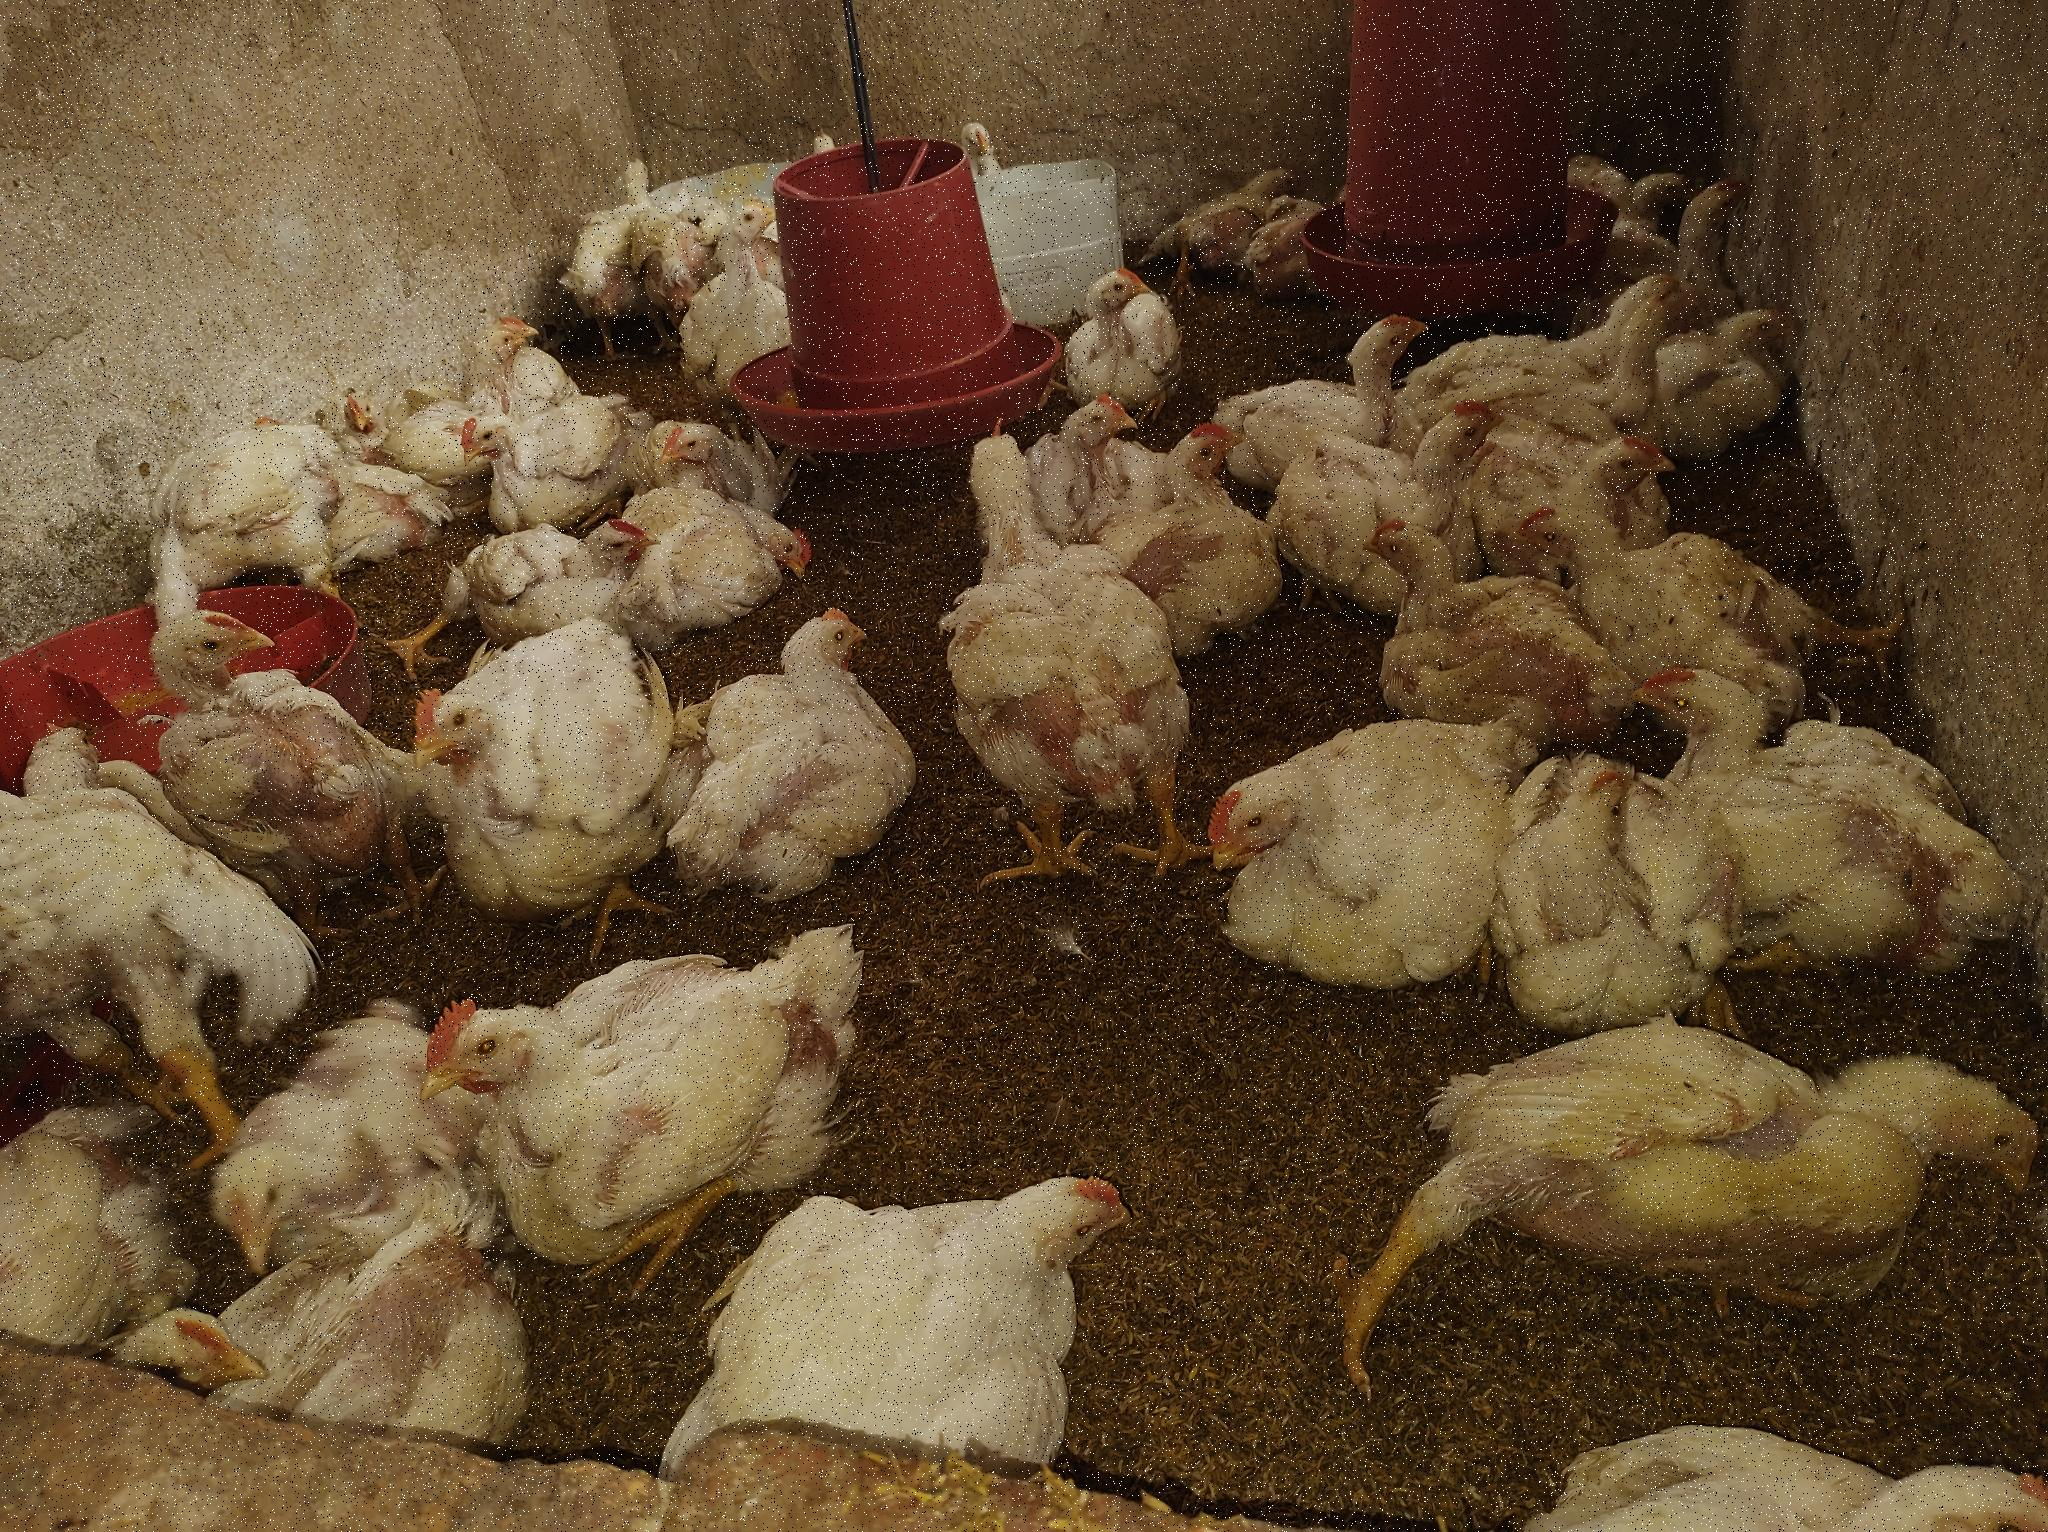Pollos: (1417, 1015, 2048, 1331), (405, 929, 880, 1278), (1626, 653, 2021, 991), (931, 431, 1189, 925), (753, 1172, 1142, 1448), (1195, 697, 1552, 998), (135, 602, 430, 914), (1522, 492, 1897, 737), (394, 632, 664, 932), (655, 613, 917, 903), (2, 713, 185, 1089), (1496, 755, 1738, 1025), (203, 999, 439, 1266), (1532, 1416, 2048, 1532), (129, 1300, 524, 1445), (2, 1098, 204, 1374), (1364, 525, 1617, 743), (1290, 393, 1512, 579), (1129, 418, 1277, 644), (156, 417, 336, 599), (1219, 311, 1425, 465), (1520, 262, 1686, 417), (1495, 426, 1684, 550), (438, 520, 655, 628), (1046, 275, 1195, 422), (637, 496, 817, 615), (624, 406, 796, 529), (684, 188, 780, 394), (459, 409, 624, 526), (1010, 396, 1154, 529), (1678, 303, 1812, 434), (558, 154, 664, 317), (1166, 158, 1297, 257), (1678, 163, 1760, 299), (644, 191, 721, 311), (1253, 198, 1330, 291), (1631, 143, 1710, 233), (330, 377, 394, 463), (1573, 167, 1638, 246), (454, 333, 516, 409), (941, 109, 1010, 171), (479, 307, 549, 352)
